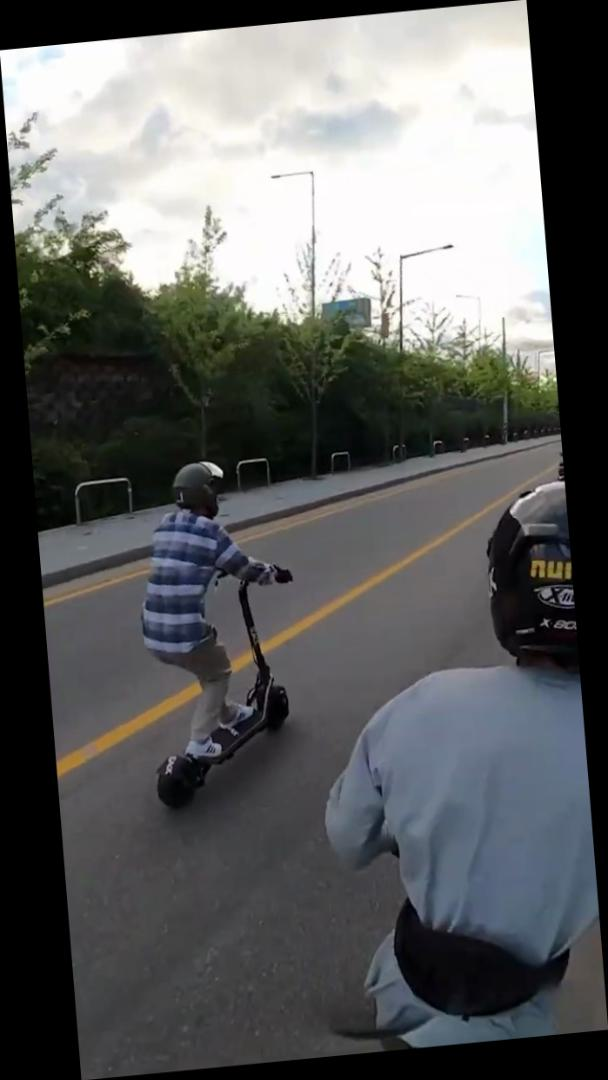helmet: (125, 448, 314, 818)
